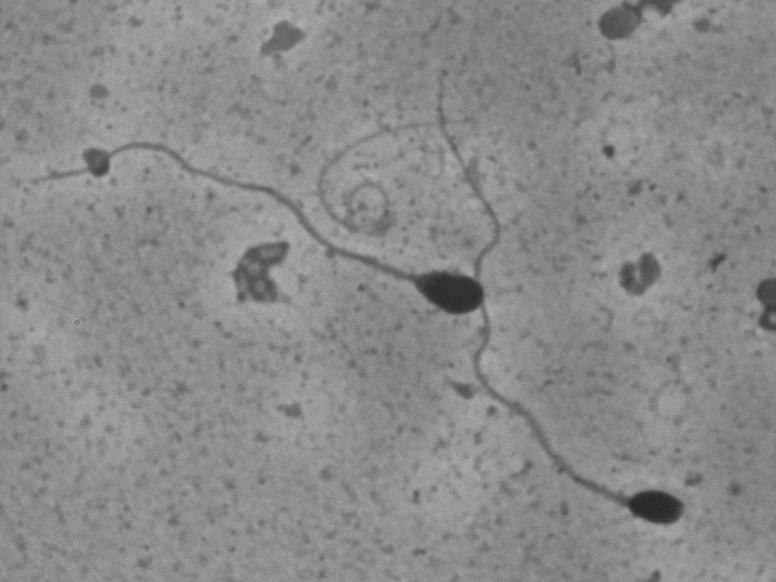Abnormal: (20, 123, 493, 325)
Normal: (418, 56, 692, 546)
